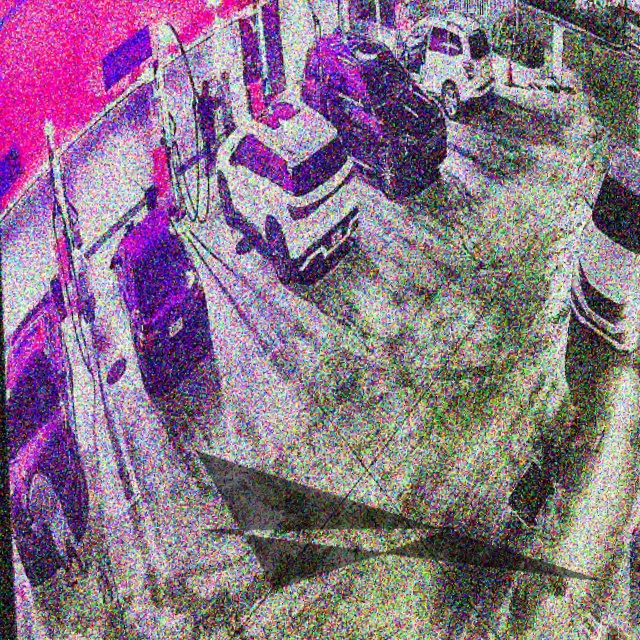Car: (216, 91, 356, 285), (297, 27, 445, 192), (108, 198, 216, 394)
